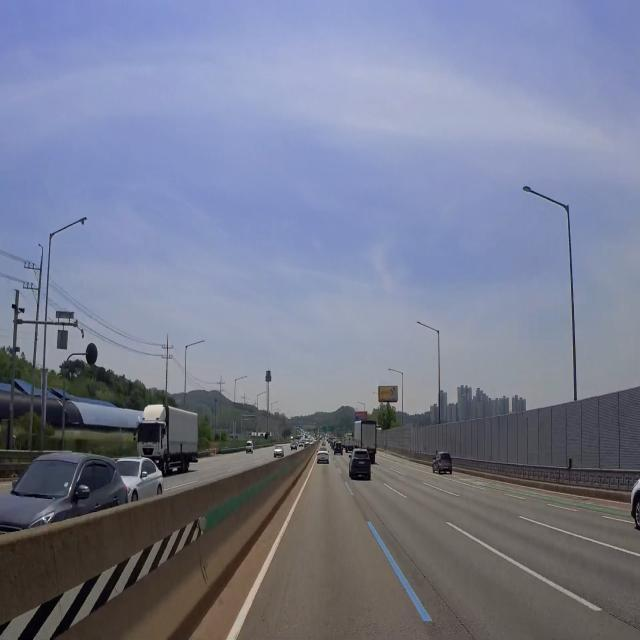car: (358, 460, 365, 467), (320, 456, 327, 461), (443, 465, 449, 470)
